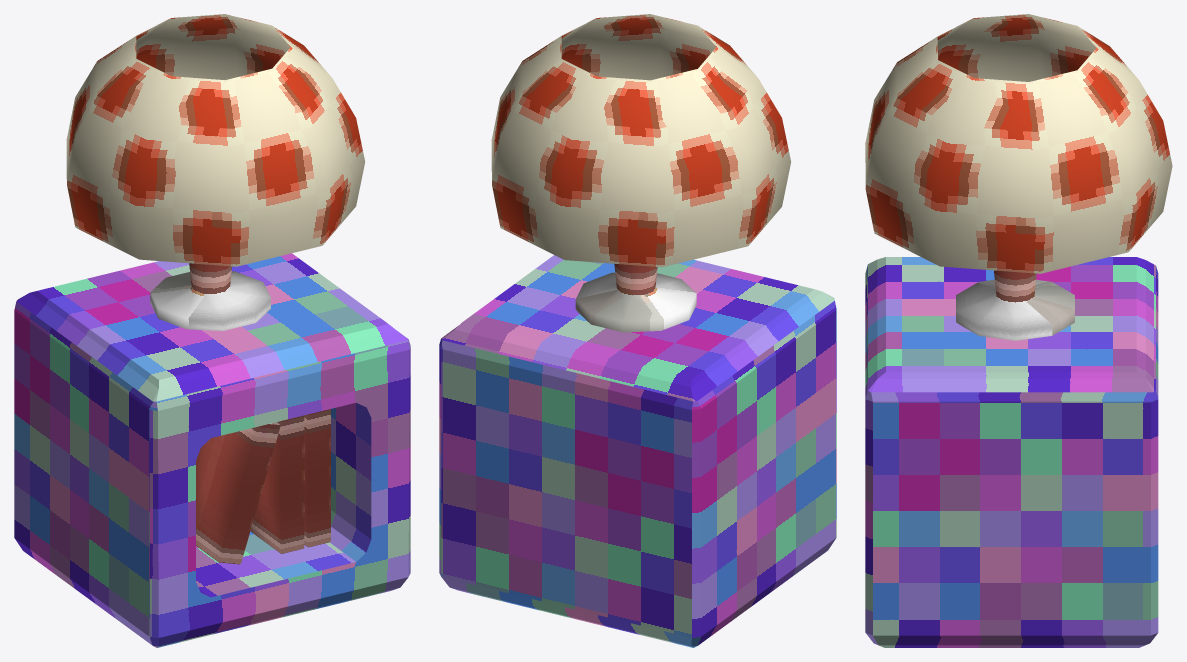
Rendered from rmk_dot_lamp_mtl.dae.
3 views of the same model, side by side, from view 1: azimuth 30°, elevation 25°; view 2: azimuth 150°, elevation 25°; view 3: azimuth 270°, elevation 25° (orthographic). The views are drawn at different scales.
Visible parts, largest first — view 1: rmk_dot_lamp_mtl; view 2: rmk_dot_lamp_mtl; view 3: rmk_dot_lamp_mtl.
Boxes of the visible parts, <box> form: rmk_dot_lamp_mtl: <box>14,14,410,647</box>; rmk_dot_lamp_mtl: <box>439,14,836,647</box>; rmk_dot_lamp_mtl: <box>865,14,1172,647</box>.
Bounding box in the file's own units: 19.07 × 36.52 × 18.79.
Materials: 3 (3 with a texture image).
